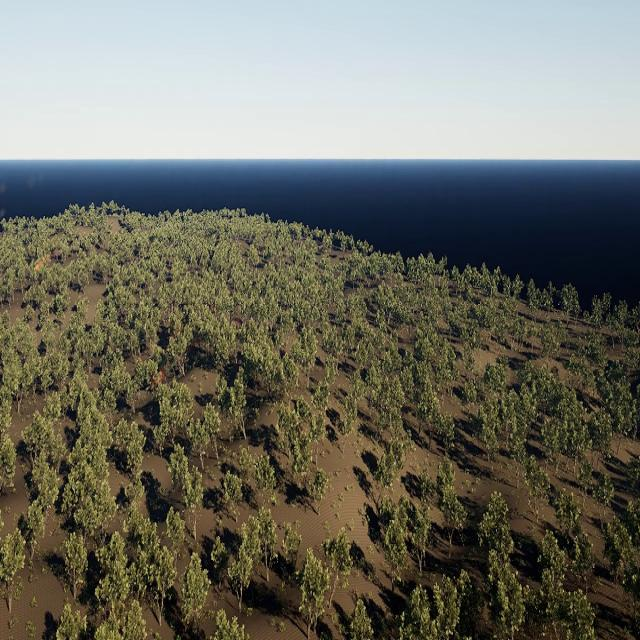fire: (35, 263, 40, 272)
smoke: (41, 249, 60, 268)
